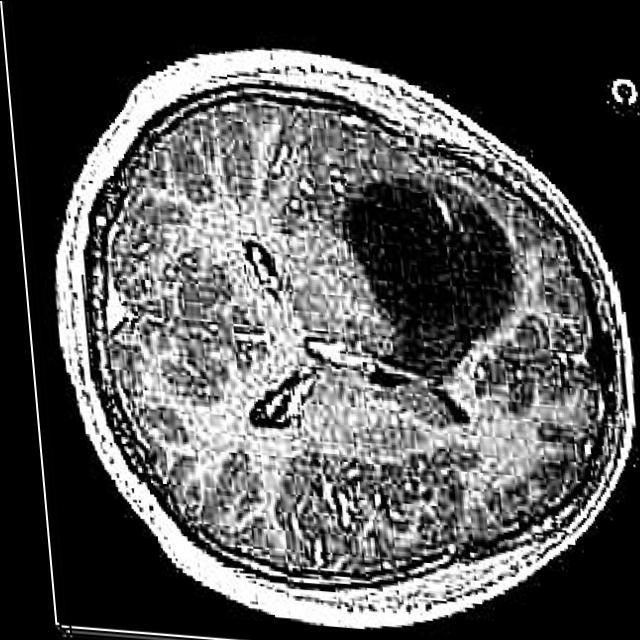Tumor: (340, 162, 511, 368)
